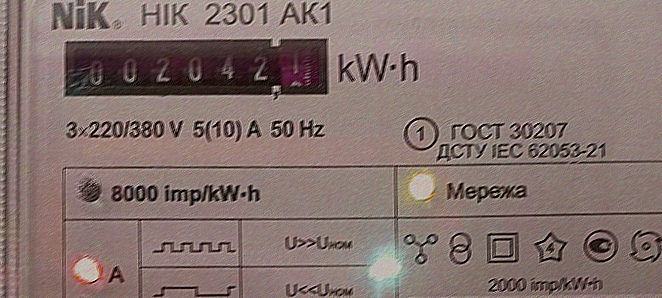0: (184, 53, 203, 84), (86, 56, 104, 87), (119, 55, 137, 86)
1: (286, 46, 301, 77)
2: (152, 55, 171, 84), (250, 53, 268, 82)
4: (217, 50, 236, 83)
screen: (58, 31, 334, 109)
